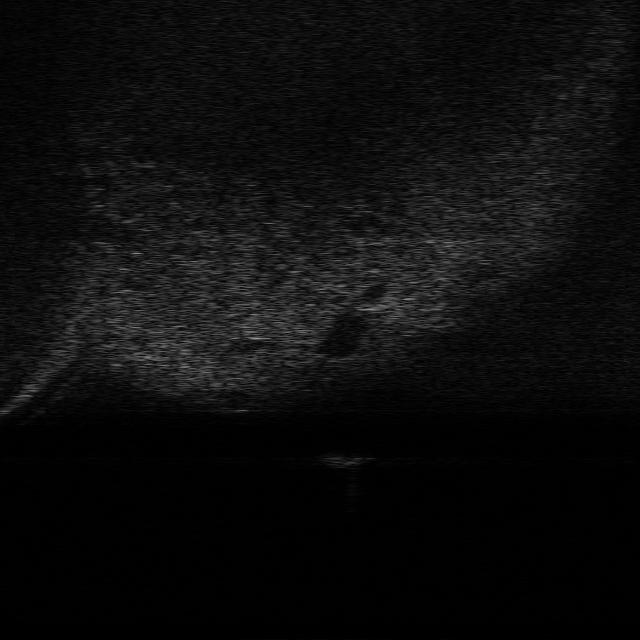cube: (319, 452, 379, 470)
